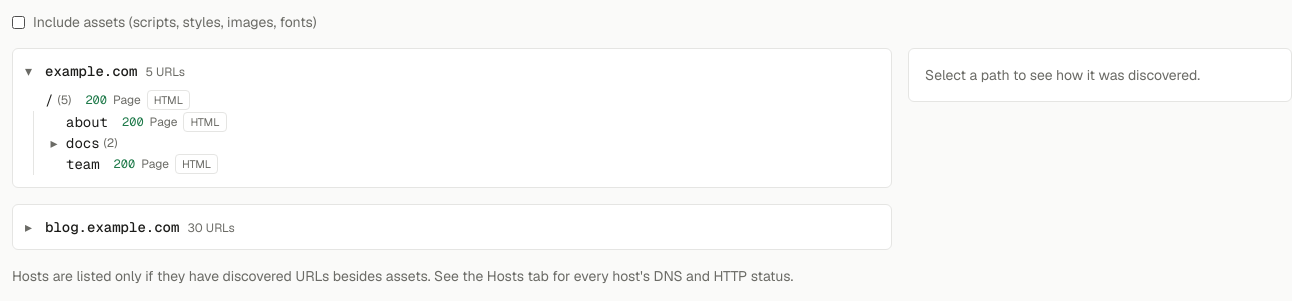
Test: SiteMap details on narrow screens › uses the side panel only on wide screens
Step 1. Click the button "about" → (87, 122), box x1=66 y1=112 x2=108 y2=132
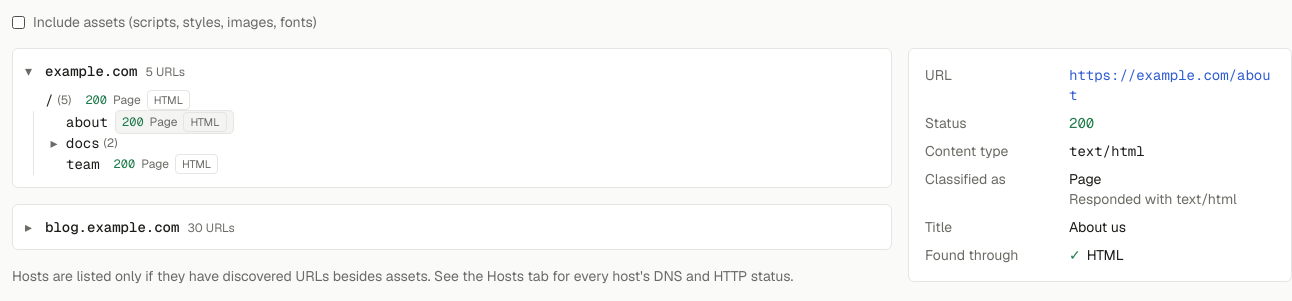
Expected: the element that starts with "URL" shows "Found through", x1=925 y1=246 x2=1018 y2=264
